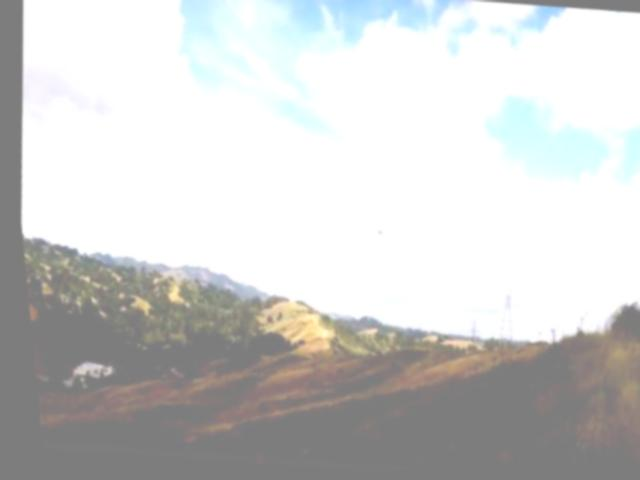iha: (351, 209, 407, 245)
